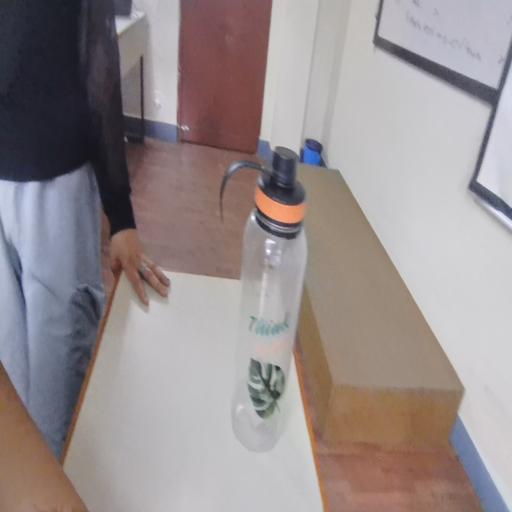Bottle: (230, 174, 314, 428)
